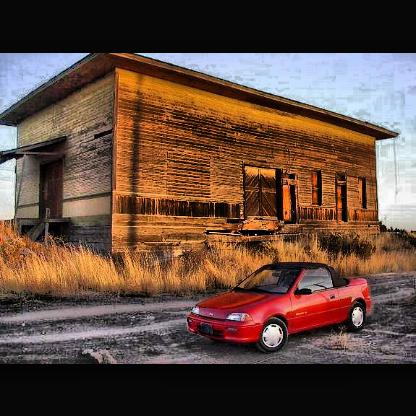Geo Metro Convertible 1993: (188, 263, 373, 354)
